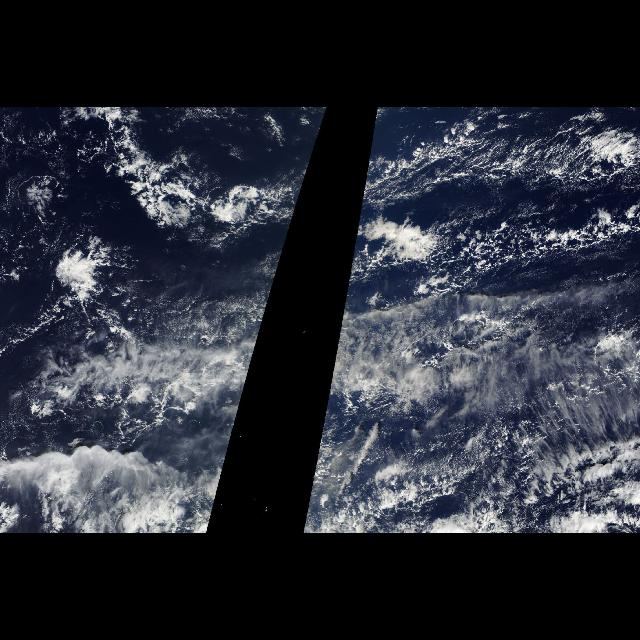Fish: (6, 111, 328, 296), (346, 111, 636, 296)
